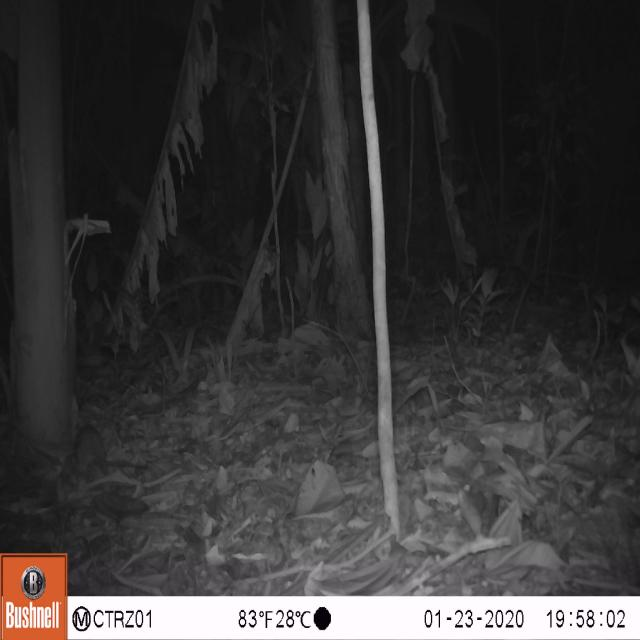Rodent: (61, 408, 124, 493)
